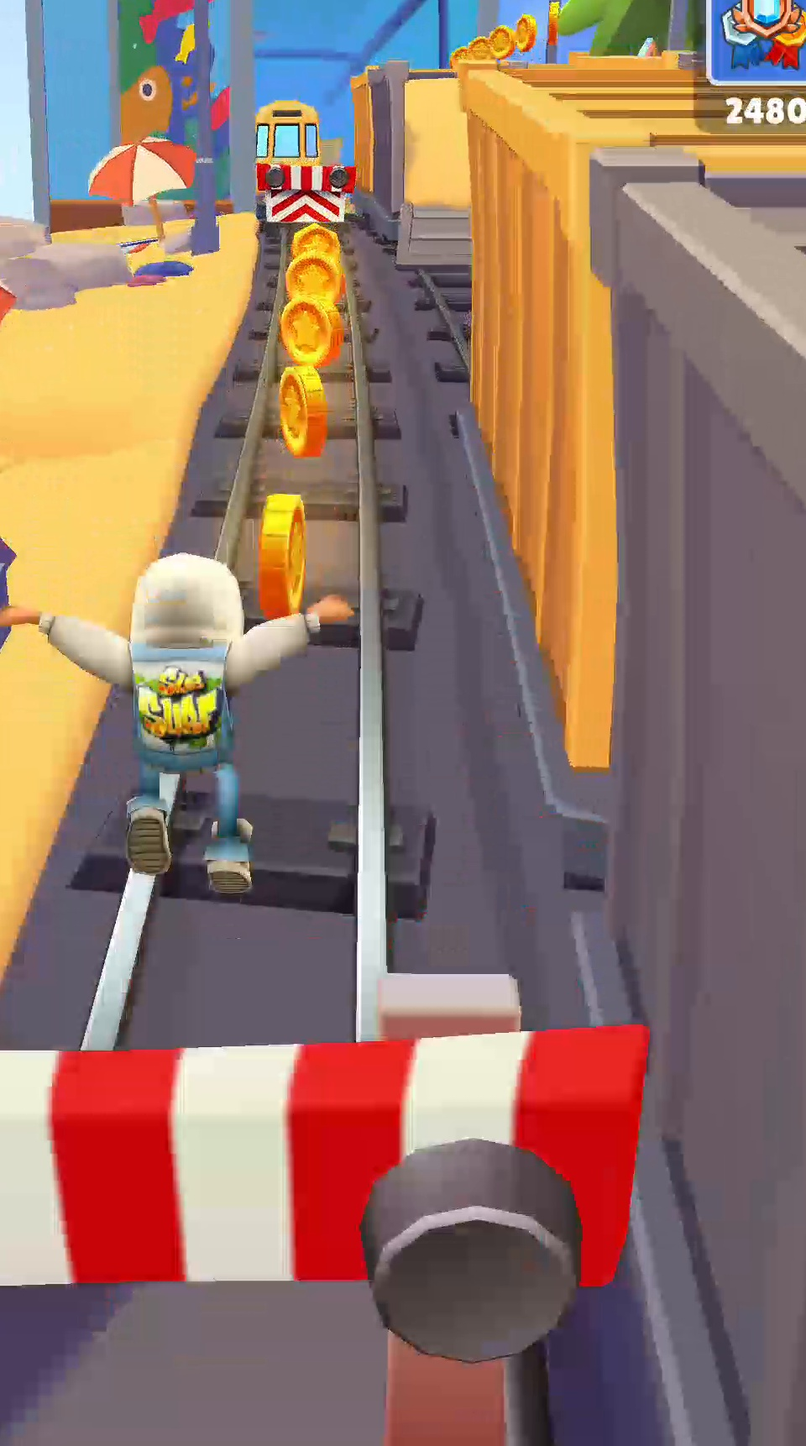blocker: (0, 1026, 648, 1445)
climber: (399, 77, 471, 268)
roll blocker: (258, 158, 354, 224)
train: (459, 56, 805, 1445), (463, 72, 805, 1445), (351, 60, 408, 215), (256, 102, 340, 192)
